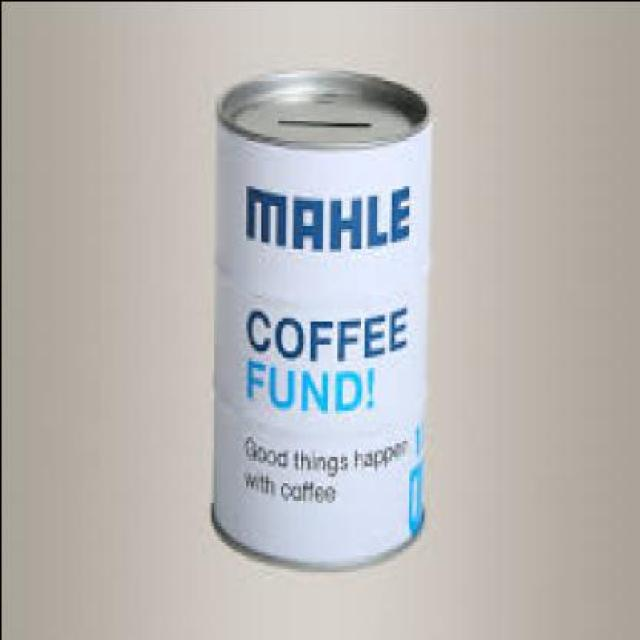METAL: (205, 66, 430, 565)
